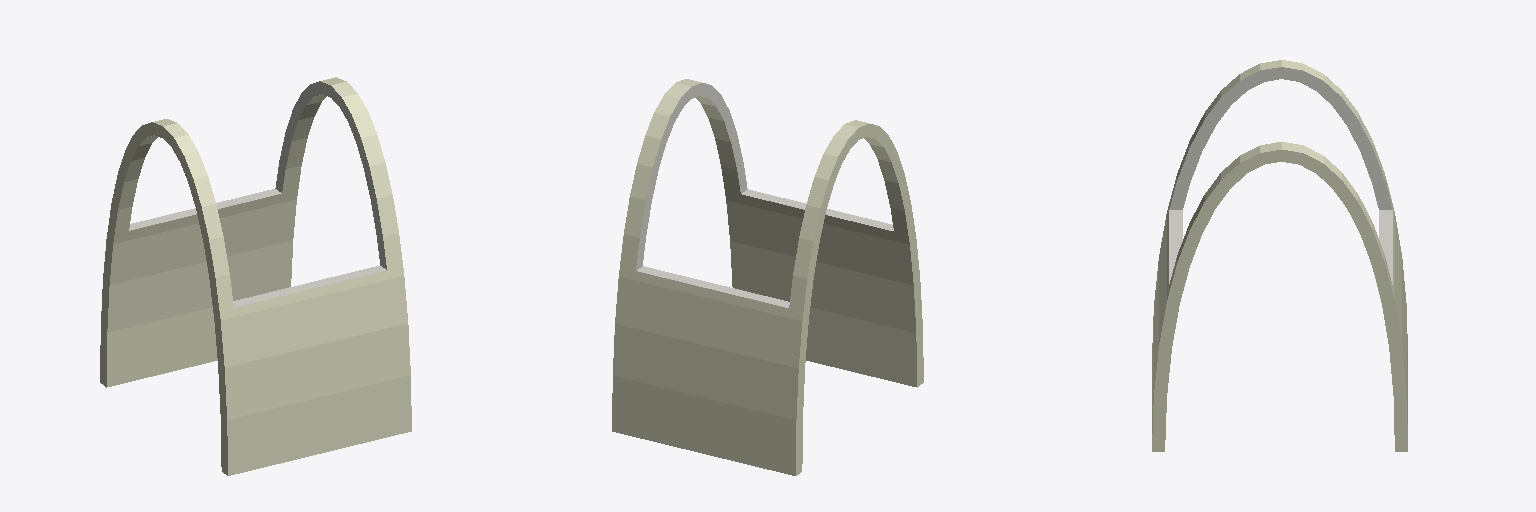
The model's file is desk4.obj.
3 views of the same model, side by side, from view 1: azimuth 30°, elevation 25°; view 2: azimuth 150°, elevation 25°; view 3: azimuth 270°, elevation 25° (orthographic).
Parts seen in each view (by area): view 1: Mesh1 Difference Model; view 2: Mesh1 Difference Model; view 3: Mesh1 Difference Model.
Boxes of the visible parts, <box> form: Mesh1 Difference Model: <box>100,77,411,475</box>; Mesh1 Difference Model: <box>612,79,923,475</box>; Mesh1 Difference Model: <box>1152,60,1407,451</box>.
Bounding box in the file's own units: 3 × 4.72 × 3.62.